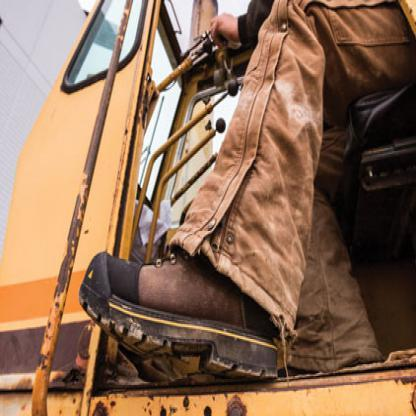bota: (78, 230, 291, 391)
